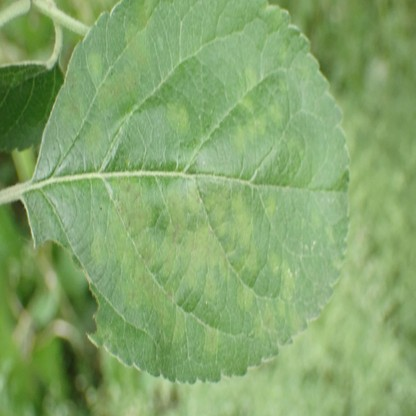scab: (92, 180, 259, 336), (100, 67, 141, 109), (124, 24, 148, 66), (59, 95, 84, 124), (165, 106, 189, 134), (278, 262, 291, 313), (253, 305, 274, 335), (87, 52, 103, 87), (247, 116, 265, 146), (85, 123, 100, 155), (202, 327, 219, 351), (237, 287, 255, 309), (293, 63, 309, 86), (289, 308, 303, 334), (233, 128, 246, 153), (136, 0, 152, 20), (264, 198, 276, 218), (330, 249, 343, 267), (240, 96, 253, 113), (271, 253, 281, 274), (268, 105, 282, 120), (246, 67, 256, 87), (324, 223, 333, 243), (310, 212, 322, 226)
